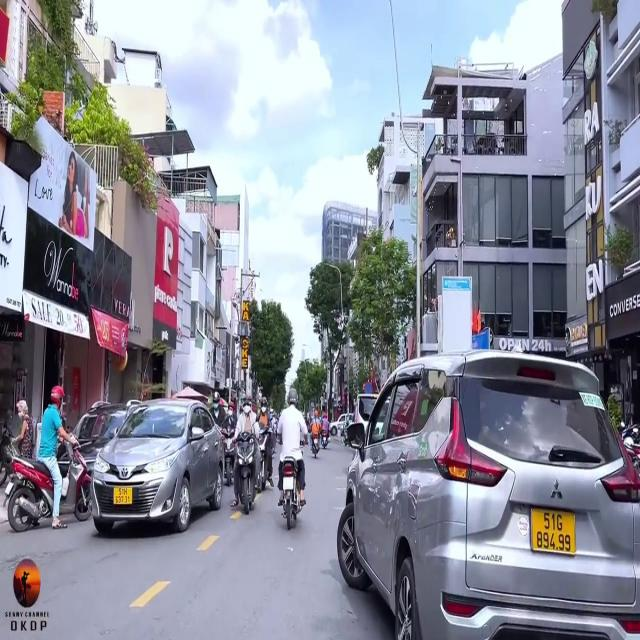bien_vang: (530, 508, 579, 563), (110, 481, 136, 510)
